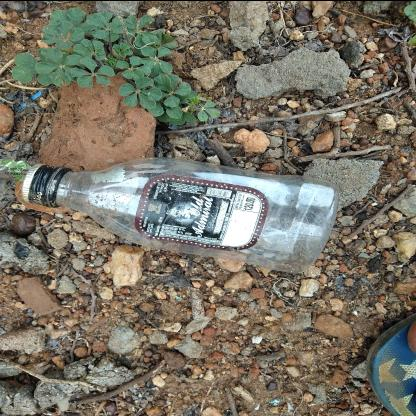bottle: (187, 119, 351, 360)
